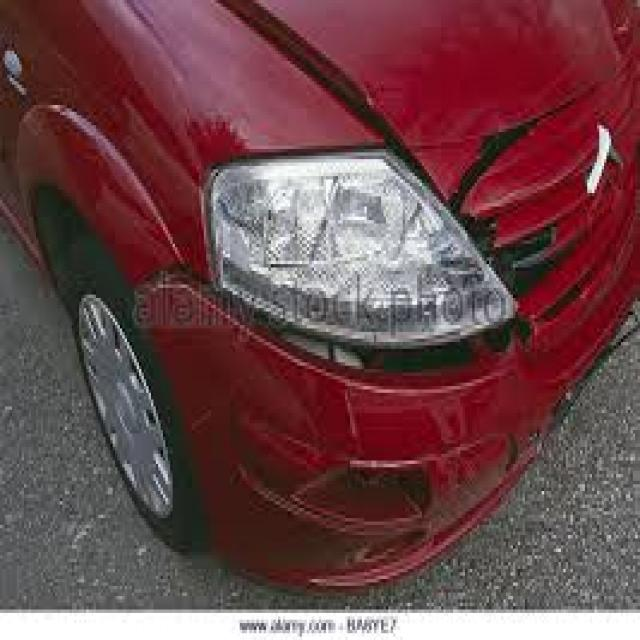minor: (220, 7, 612, 240)
